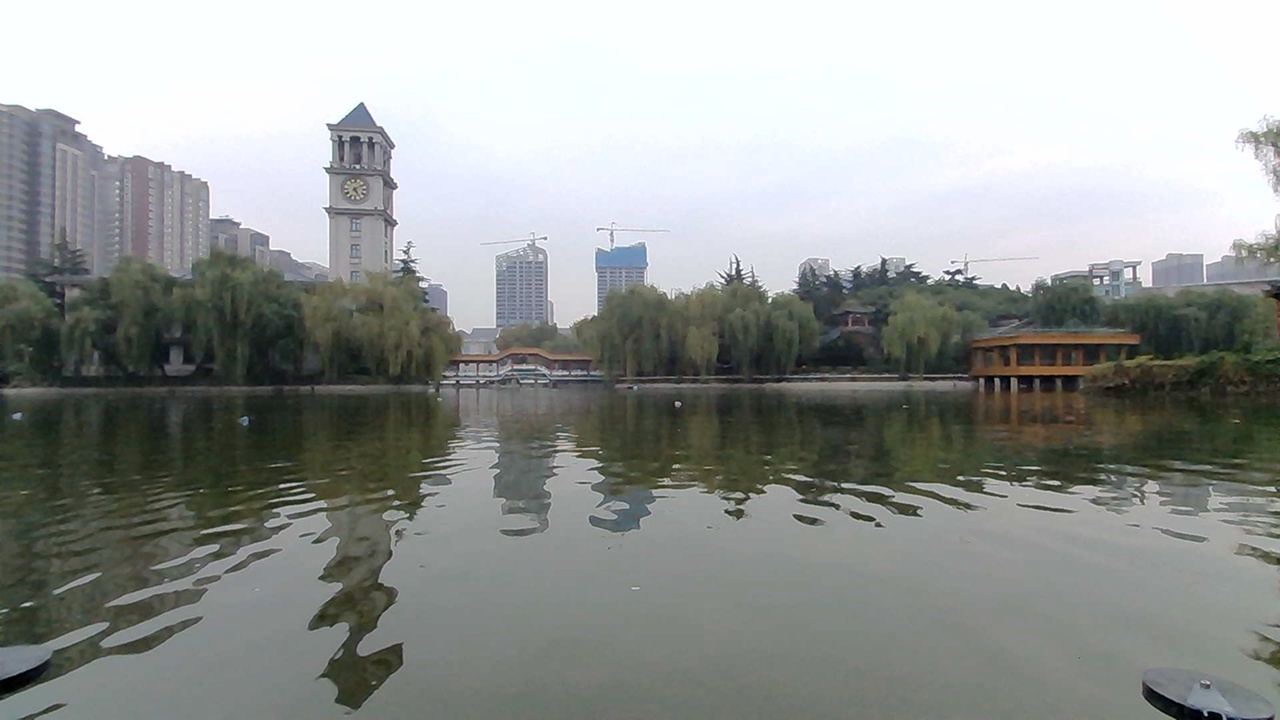bottle: (2, 399, 38, 423), (230, 408, 264, 430), (662, 393, 698, 412)
